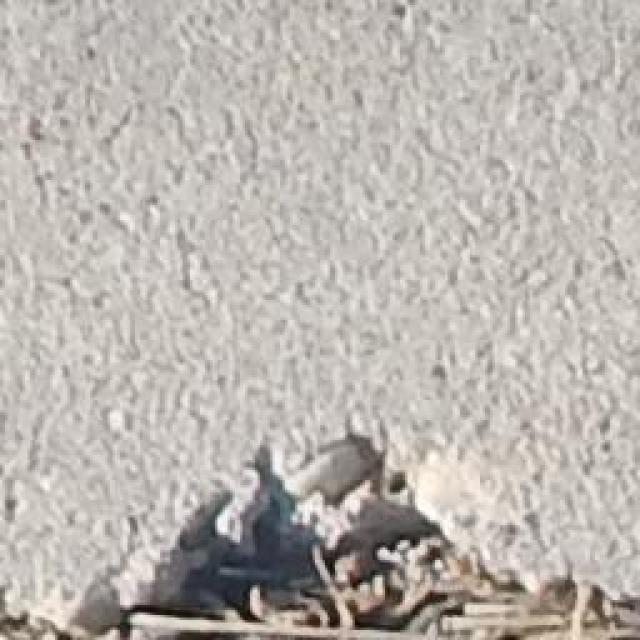concrete-crack: (0, 415, 640, 640)
